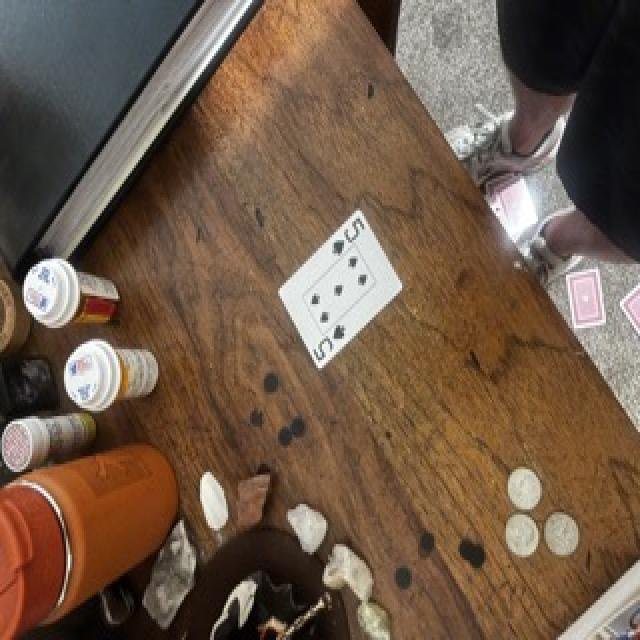6 of diamonds: (279, 210, 402, 368)
